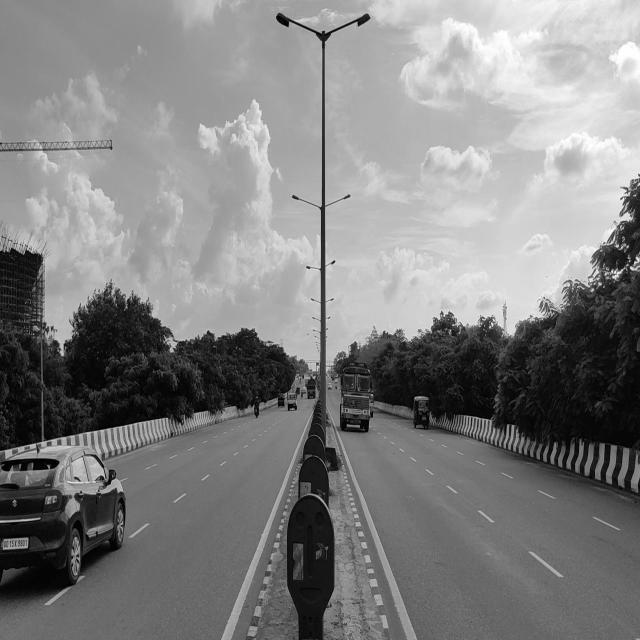car: (3, 446, 128, 587)
